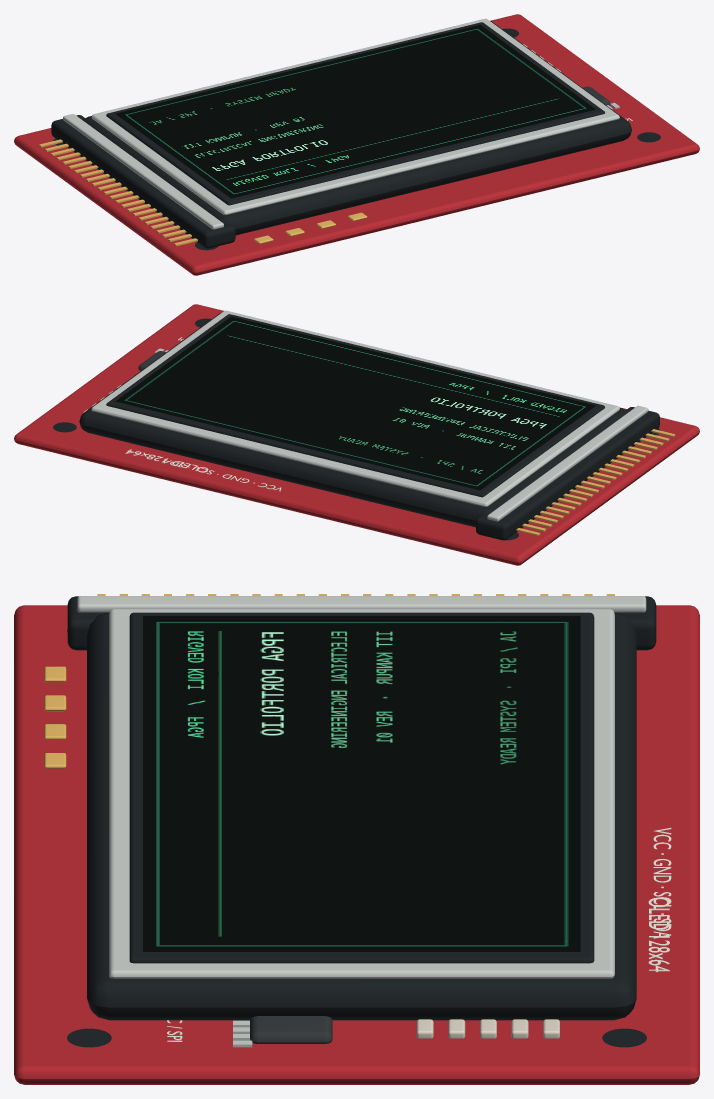
File: oled-module.glb
3 renders of one model, top to bottom at view 1: azimuth 30°, elevation 25°; view 2: azimuth 150°, elevation 25°; view 3: azimuth 270°, elevation 25°, orthographic. The views are drawn at different scales.
Parts seen in each view (by area): view 1: OLED_SCREEN, OLED_PCB_red_carrier, OLED_display_package, OLED_display_bezel, OLED_inner_mask, OLED_FPC_ZIF_socket, OLED_FPC_latch; view 2: OLED_SCREEN, OLED_PCB_red_carrier, OLED_display_package, OLED_display_bezel, OLED_inner_mask, OLED_FPC_ZIF_socket, OLED_FPC_latch; view 3: OLED_SCREEN, OLED_PCB_red_carrier, OLED_display_package, OLED_display_bezel, OLED_inner_mask, OLED_FPC_latch, OLED_controller_IC, OLED_FPC_ZIF_socket, OLED_silkscreen_pin_names, OLED_silkscreen_model.
Part boxes in pixels (x1,y1,x2,y2): OLED_SCREEN: (115, 24, 595, 198); OLED_PCB_red_carrier: (14, 14, 699, 275); OLED_display_package: (83, 21, 631, 235); OLED_display_bezel: (91, 18, 619, 215); OLED_inner_mask: (106, 22, 604, 205); OLED_FPC_ZIF_socket: (51, 115, 235, 248); OLED_FPC_latch: (63, 114, 223, 229); OLED_SCREEN: (115, 316, 595, 490); OLED_PCB_red_carrier: (14, 304, 699, 565); OLED_display_package: (79, 313, 628, 527); OLED_display_bezel: (91, 310, 619, 506); OLED_inner_mask: (106, 314, 604, 497); OLED_FPC_ZIF_socket: (476, 407, 659, 540); OLED_FPC_latch: (487, 405, 648, 521); OLED_SCREEN: (143, 616, 580, 951); OLED_PCB_red_carrier: (14, 605, 699, 1084); OLED_display_package: (87, 612, 636, 1020); OLED_display_bezel: (109, 609, 614, 978); OLED_inner_mask: (129, 612, 594, 963); OLED_FPC_latch: (77, 596, 646, 612); OLED_controller_IC: (250, 1016, 332, 1043); OLED_FPC_ZIF_socket: (67, 596, 656, 650); OLED_silkscreen_pin_names: (653, 828, 671, 938); OLED_silkscreen_model: (648, 897, 669, 972).
Bounding box in the file's own units: 5.69 × 0.3994 × 3.53.
8 materials, 1 textured.
